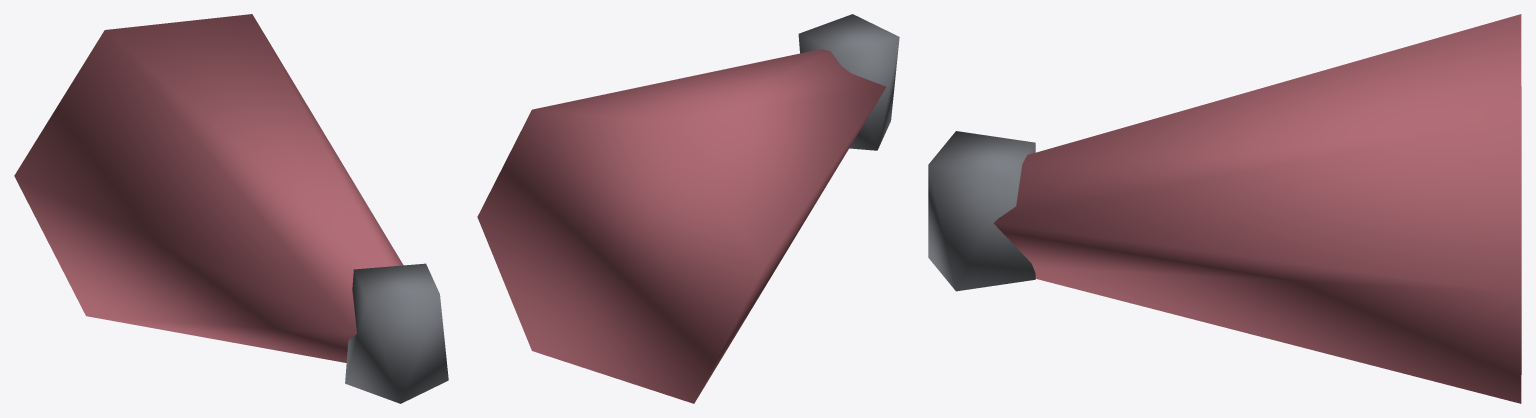
Rendered from Prop_Megaphone_attach_hand_r_LOD2.glb.
3 views of the same model, side by side, from view 1: azimuth 30°, elevation 25°; view 2: azimuth 150°, elevation 25°; view 3: azimuth 270°, elevation 25° (orthographic). The views are drawn at different scales.
Parts seen in each view (by area): view 1: Prop_Megaphone_attach_hand_r_LOD2; view 2: Prop_Megaphone_attach_hand_r_LOD2; view 3: Prop_Megaphone_attach_hand_r_LOD2.
Part boxes in pixels (left/top/right/bottom): Prop_Megaphone_attach_hand_r_LOD2: left=14, top=14, right=448, bottom=403; Prop_Megaphone_attach_hand_r_LOD2: left=477, top=14, right=899, bottom=403; Prop_Megaphone_attach_hand_r_LOD2: left=928, top=14, right=1521, bottom=403.
Bounding box in the file's own units: 0.2456 × 0.2247 × 0.3738.
